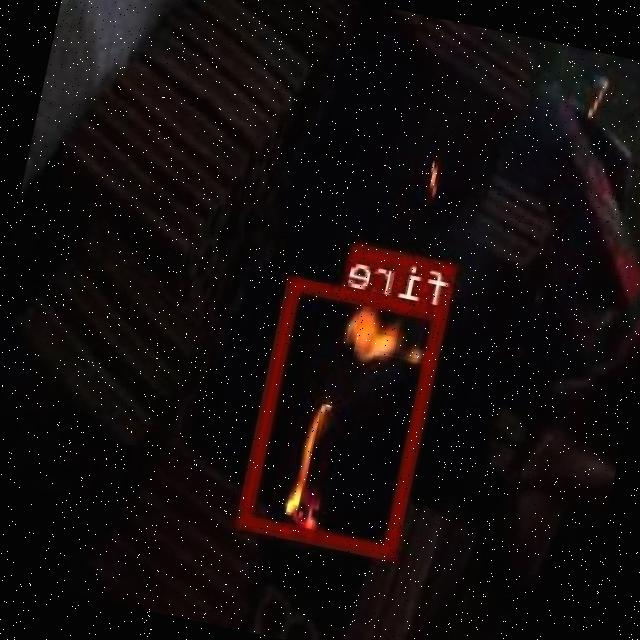fire: (239, 274, 450, 558)
